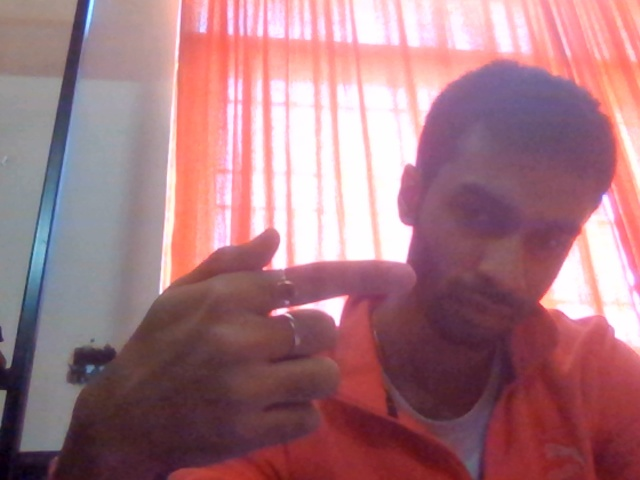G: (56, 197, 439, 480)
